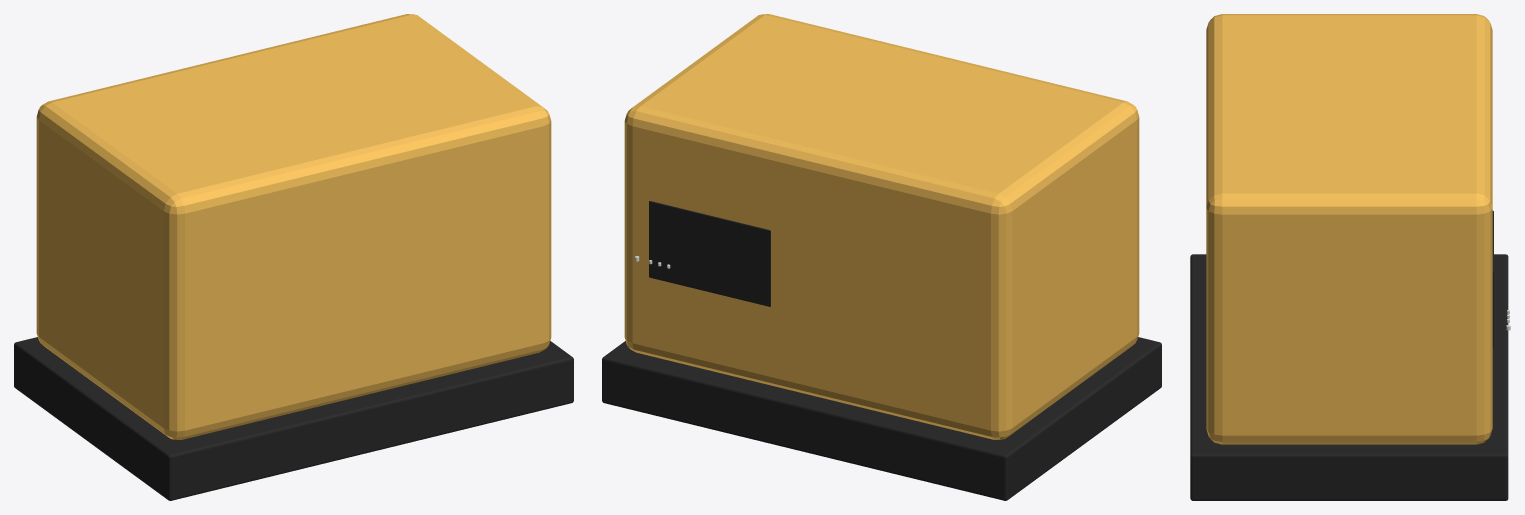
Rendered from generic-generator-7k5-split-60hz.glb.
3 renders of one model, left to right at view 1: azimuth 30°, elevation 25°; view 2: azimuth 150°, elevation 25°; view 3: azimuth 270°, elevation 25°, orthographic.
Visible parts, largest first — view 1: housing, frame; view 2: housing, frame, panel; view 3: housing, frame.
Part boxes in pixels (x1,y1,x2,y2): housing: [36, 14, 551, 439]; frame: [14, 337, 573, 500]; housing: [624, 14, 1139, 439]; frame: [602, 337, 1161, 500]; panel: [649, 201, 770, 306]; housing: [1206, 14, 1492, 444]; frame: [1190, 254, 1508, 500].
Bounding box in the file's own units: 0.9 × 0.6175 × 0.604.
